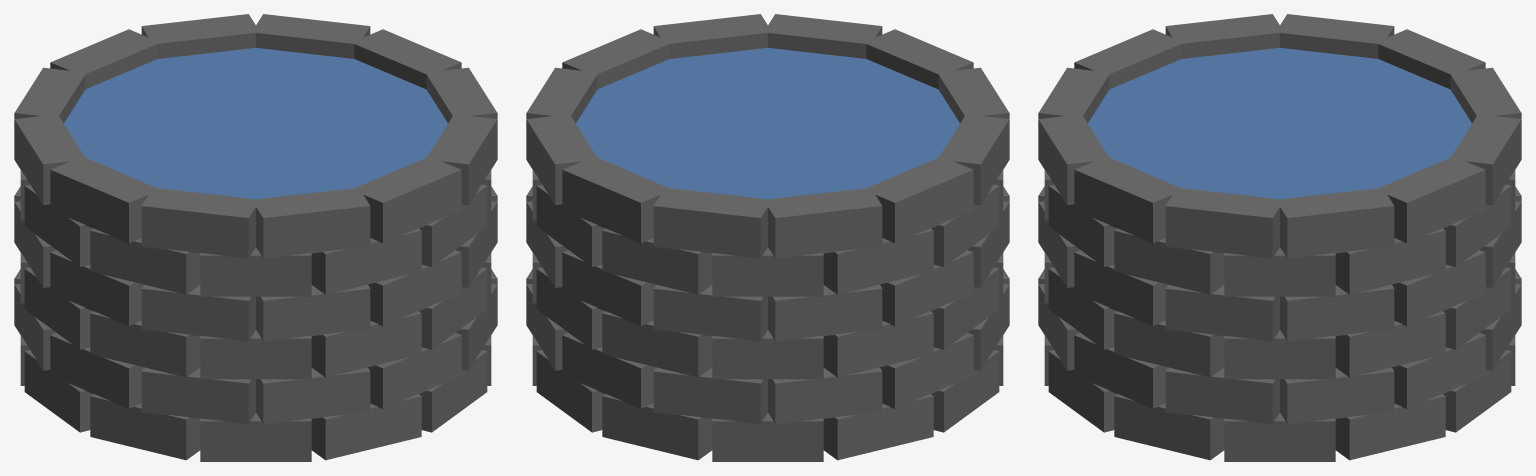
The model's file is Well.fbx.
The picture shows the model from 3 angles, left to right: view 1: azimuth 30°, elevation 25°; view 2: azimuth 150°, elevation 25°; view 3: azimuth 270°, elevation 25°; orthographic projection.
Parts seen in each view (by area): view 1: Cylinder, Cube.068, Cube.067, Cube.069, Cube.066, Cube.043, Cube.044, Cube.019, Cube.020, Cube.031, Cube.055, Cube.007 (+28 smaller); view 2: Cylinder, Cube.060, Cube.071, Cube.070, Cube.061, Cube.036, Cube.047, Cube.012, Cube.023, Cube.035, Cube.059, Cube.011 (+28 smaller); view 3: Cylinder, Cube.063, Cube.064, Cube.065, Cube.062, Cube.039, Cube.040, Cube.015, Cube.016, Cube.027, Cube.051, Cube.003 (+28 smaller).
Boxes of the visible parts, bbox=[...] form: Cylinder: bbox=[64, 48, 447, 199]; Cube.068: bbox=[141, 188, 259, 258]; Cube.067: bbox=[253, 188, 370, 258]; Cube.069: bbox=[50, 156, 160, 243]; Cube.066: bbox=[351, 156, 461, 243]; Cube.043: bbox=[256, 284, 370, 341]; Cube.044: bbox=[141, 284, 255, 341]; Cube.019: bbox=[256, 367, 370, 424]; Cube.020: bbox=[141, 367, 255, 424]; Cube.031: bbox=[200, 330, 311, 379]; Cube.055: bbox=[200, 247, 311, 296]; Cube.007: bbox=[200, 413, 311, 461]; Cylinder: bbox=[576, 48, 959, 199]; Cube.060: bbox=[653, 187, 771, 258]; Cube.071: bbox=[765, 187, 882, 258]; Cube.070: bbox=[864, 156, 973, 243]; Cube.061: bbox=[562, 156, 668, 243]; Cube.036: bbox=[653, 284, 767, 341]; Cube.047: bbox=[768, 284, 882, 341]; Cube.012: bbox=[653, 367, 767, 424]; Cube.023: bbox=[768, 367, 882, 424]; Cube.035: bbox=[712, 330, 823, 379]; Cube.059: bbox=[712, 247, 823, 296]; Cube.011: bbox=[712, 413, 823, 461]; Cylinder: bbox=[1088, 48, 1471, 199]; Cube.063: bbox=[1276, 188, 1394, 258]; Cube.064: bbox=[1165, 187, 1279, 258]; Cube.065: bbox=[1074, 156, 1182, 243]; Cube.062: bbox=[1376, 157, 1485, 243]; Cube.039: bbox=[1280, 284, 1394, 341]; Cube.040: bbox=[1165, 284, 1279, 341]; Cube.015: bbox=[1280, 367, 1394, 424]; Cube.016: bbox=[1165, 367, 1279, 424]; Cube.027: bbox=[1224, 330, 1335, 379]; Cube.051: bbox=[1224, 247, 1335, 296]; Cube.003: bbox=[1224, 413, 1335, 461].
Bounding box in the file's own units: 195 × 110 × 195.
